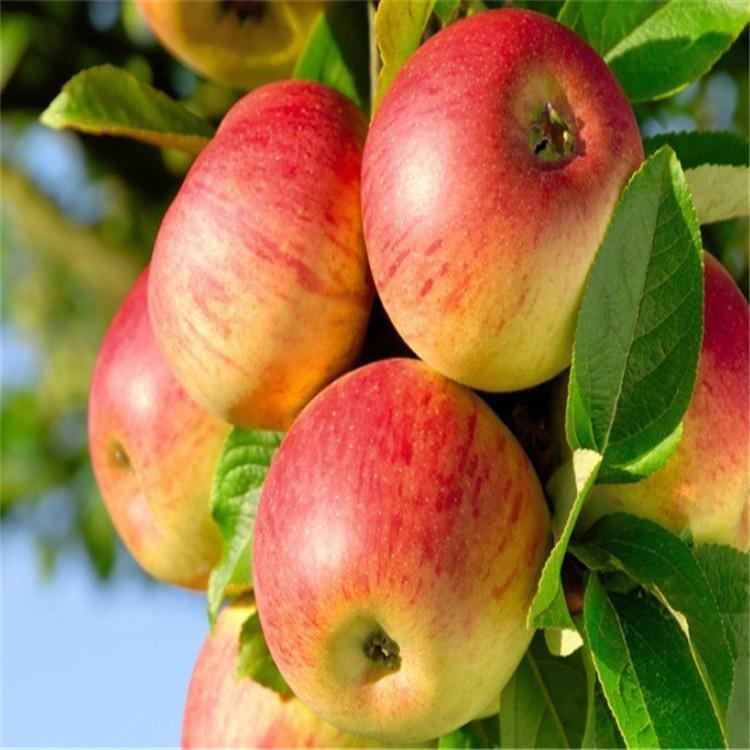apple: (207, 373, 552, 748), (378, 8, 646, 395), (138, 81, 379, 433), (83, 264, 228, 591), (608, 262, 747, 559)
